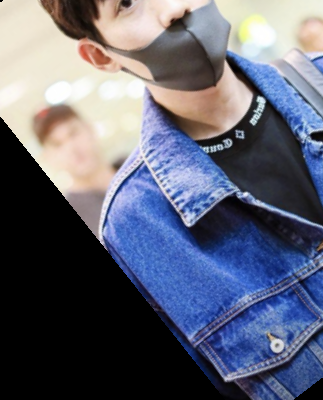mask_weared_incorrect: (14, 1, 265, 97)
